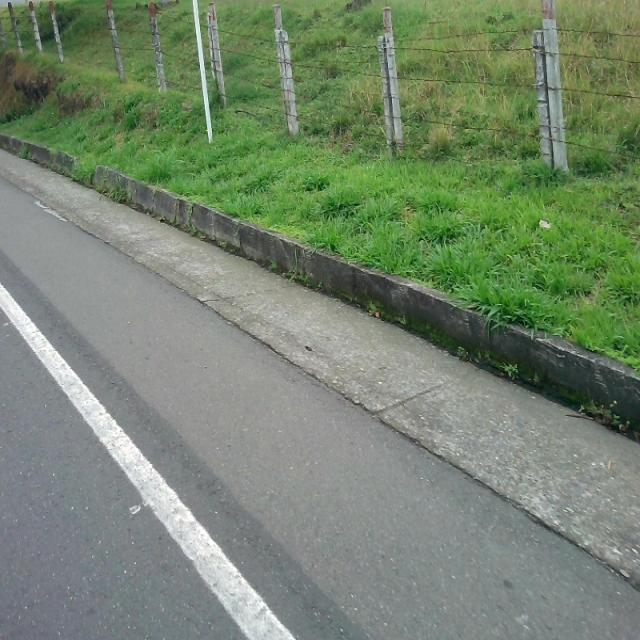DITCH: (2, 125, 639, 638), (1, 129, 639, 638), (1, 146, 639, 632)
